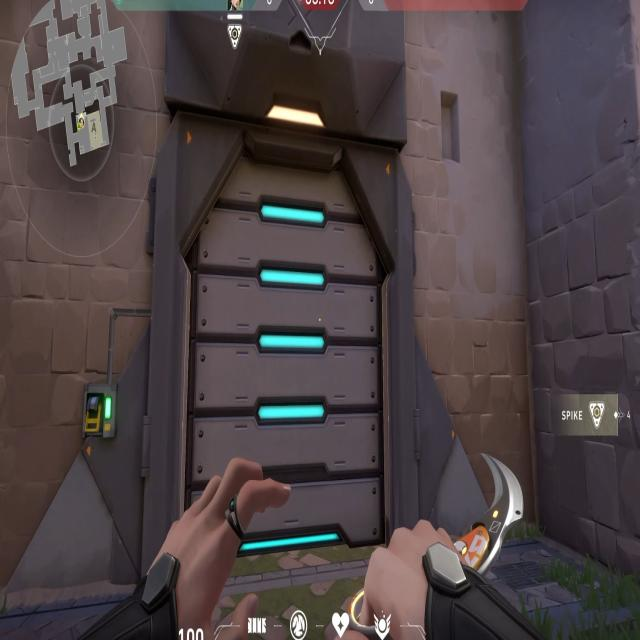A_Door: (166, 59, 430, 594)
